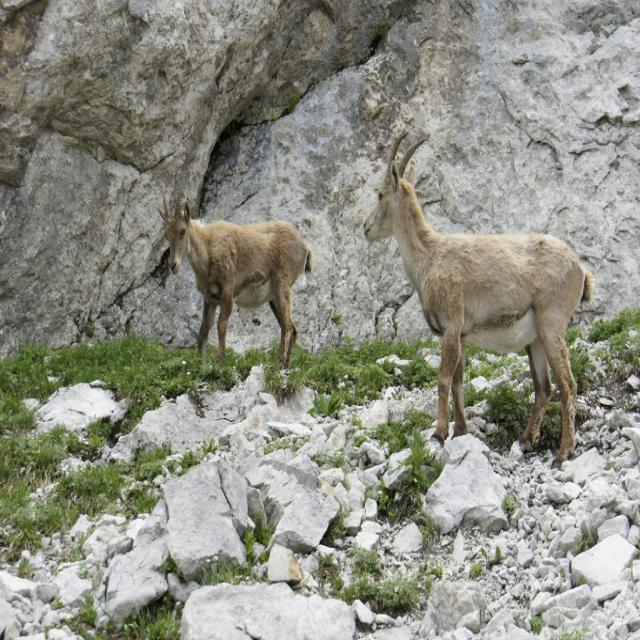Goat: (363, 132, 594, 471), (156, 177, 312, 369)
